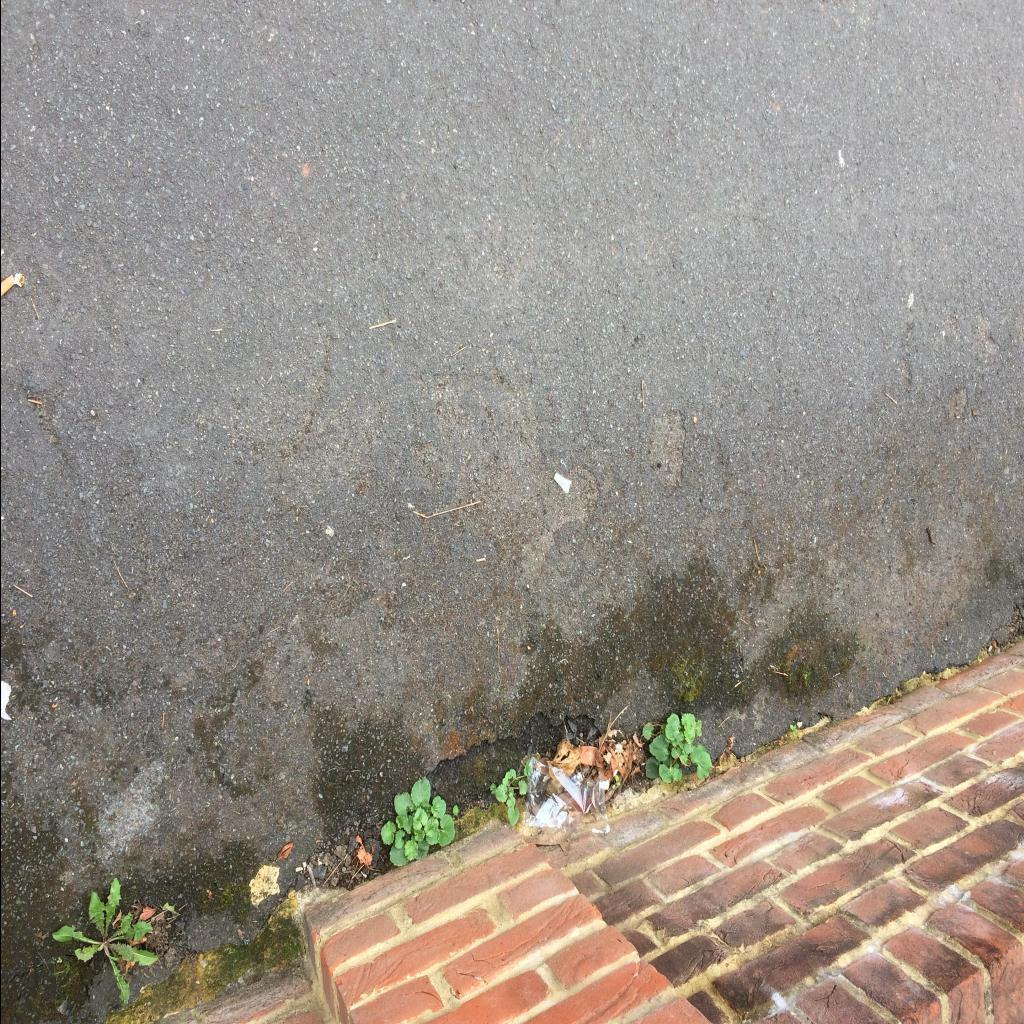Cigarette: (1, 273, 14, 296)
Plastic film: (524, 758, 610, 836)
Unlabeled litter: (552, 472, 570, 494)
